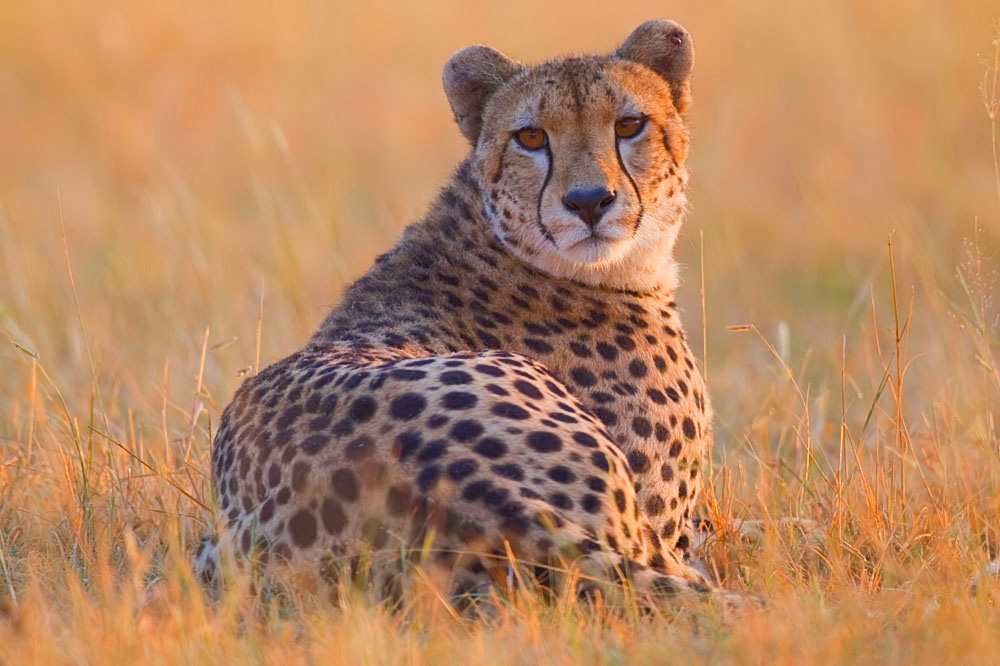cheetah: (425, 6, 713, 308)
